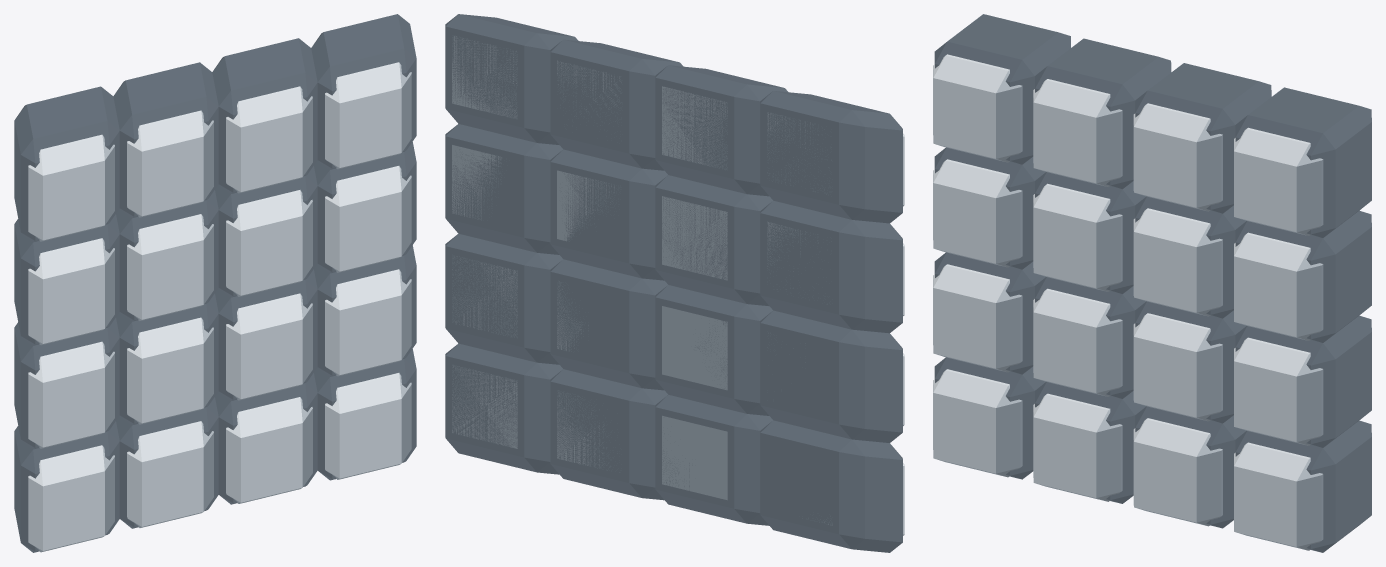
The model's file is Terrain_Block4x4.gltf.
The picture shows the model from 3 angles, left to right: view 1: azimuth 30°, elevation 25°; view 2: azimuth 150°, elevation 25°; view 3: azimuth 330°, elevation 25°; orthographic projection. The views are drawn at different scales.
Visible parts, largest first — view 1: Terrain_Block4x4_baked; view 2: Terrain_Block4x4_baked; view 3: Terrain_Block4x4_baked.
Boxes of the visible parts, x1,y1,x2,y2 form: Terrain_Block4x4_baked: [14, 14, 416, 552]; Terrain_Block4x4_baked: [445, 14, 904, 552]; Terrain_Block4x4_baked: [933, 14, 1371, 552].
Bounding box in the file's own units: 4.15 × 4.15 × 0.7.
